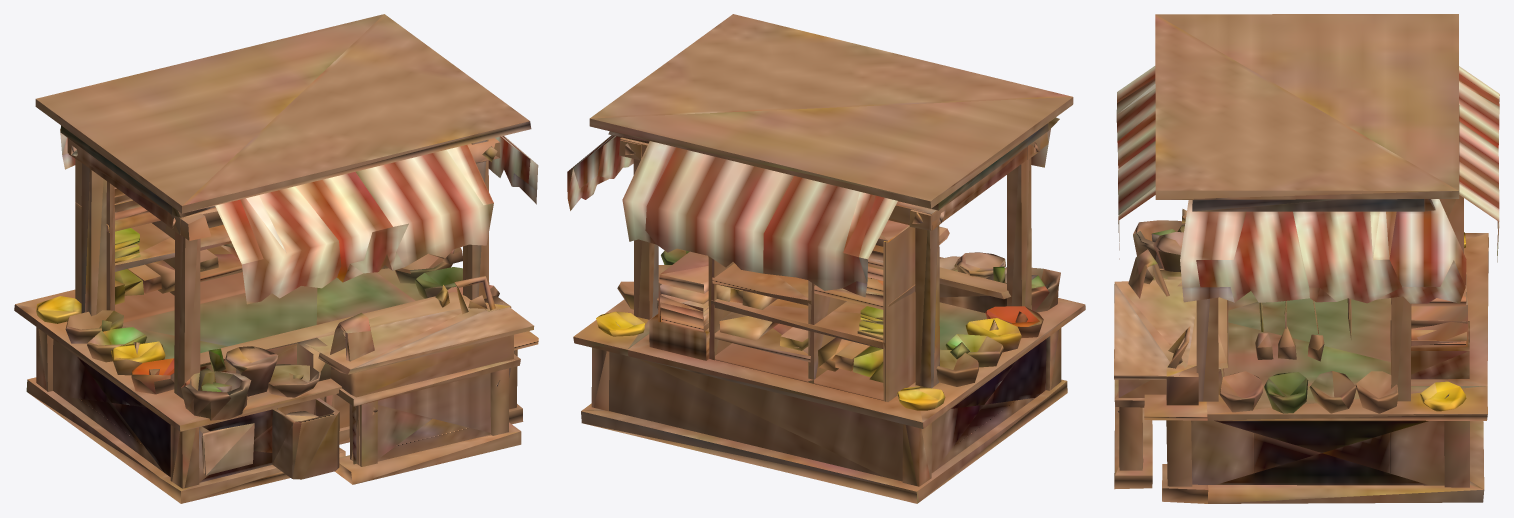
The model's file is market-stall.lod1.glb.
3 views of the same model, side by side, from view 1: azimuth 30°, elevation 25°; view 2: azimuth 150°, elevation 25°; view 3: azimuth 270°, elevation 25° (orthographic). The views are drawn at different scales.
Bounding box in the file's own units: 2.4 × 1.81 × 2.01.
Materials: 1 (1 with a texture image).
